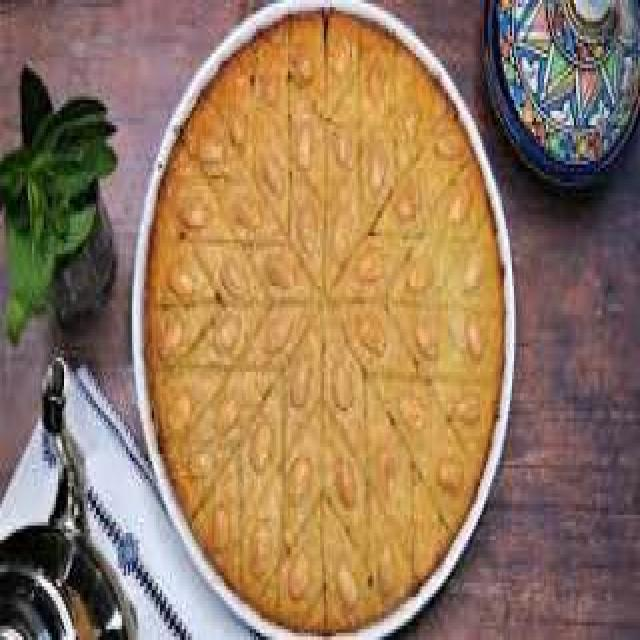pasposa: (144, 11, 505, 637)
